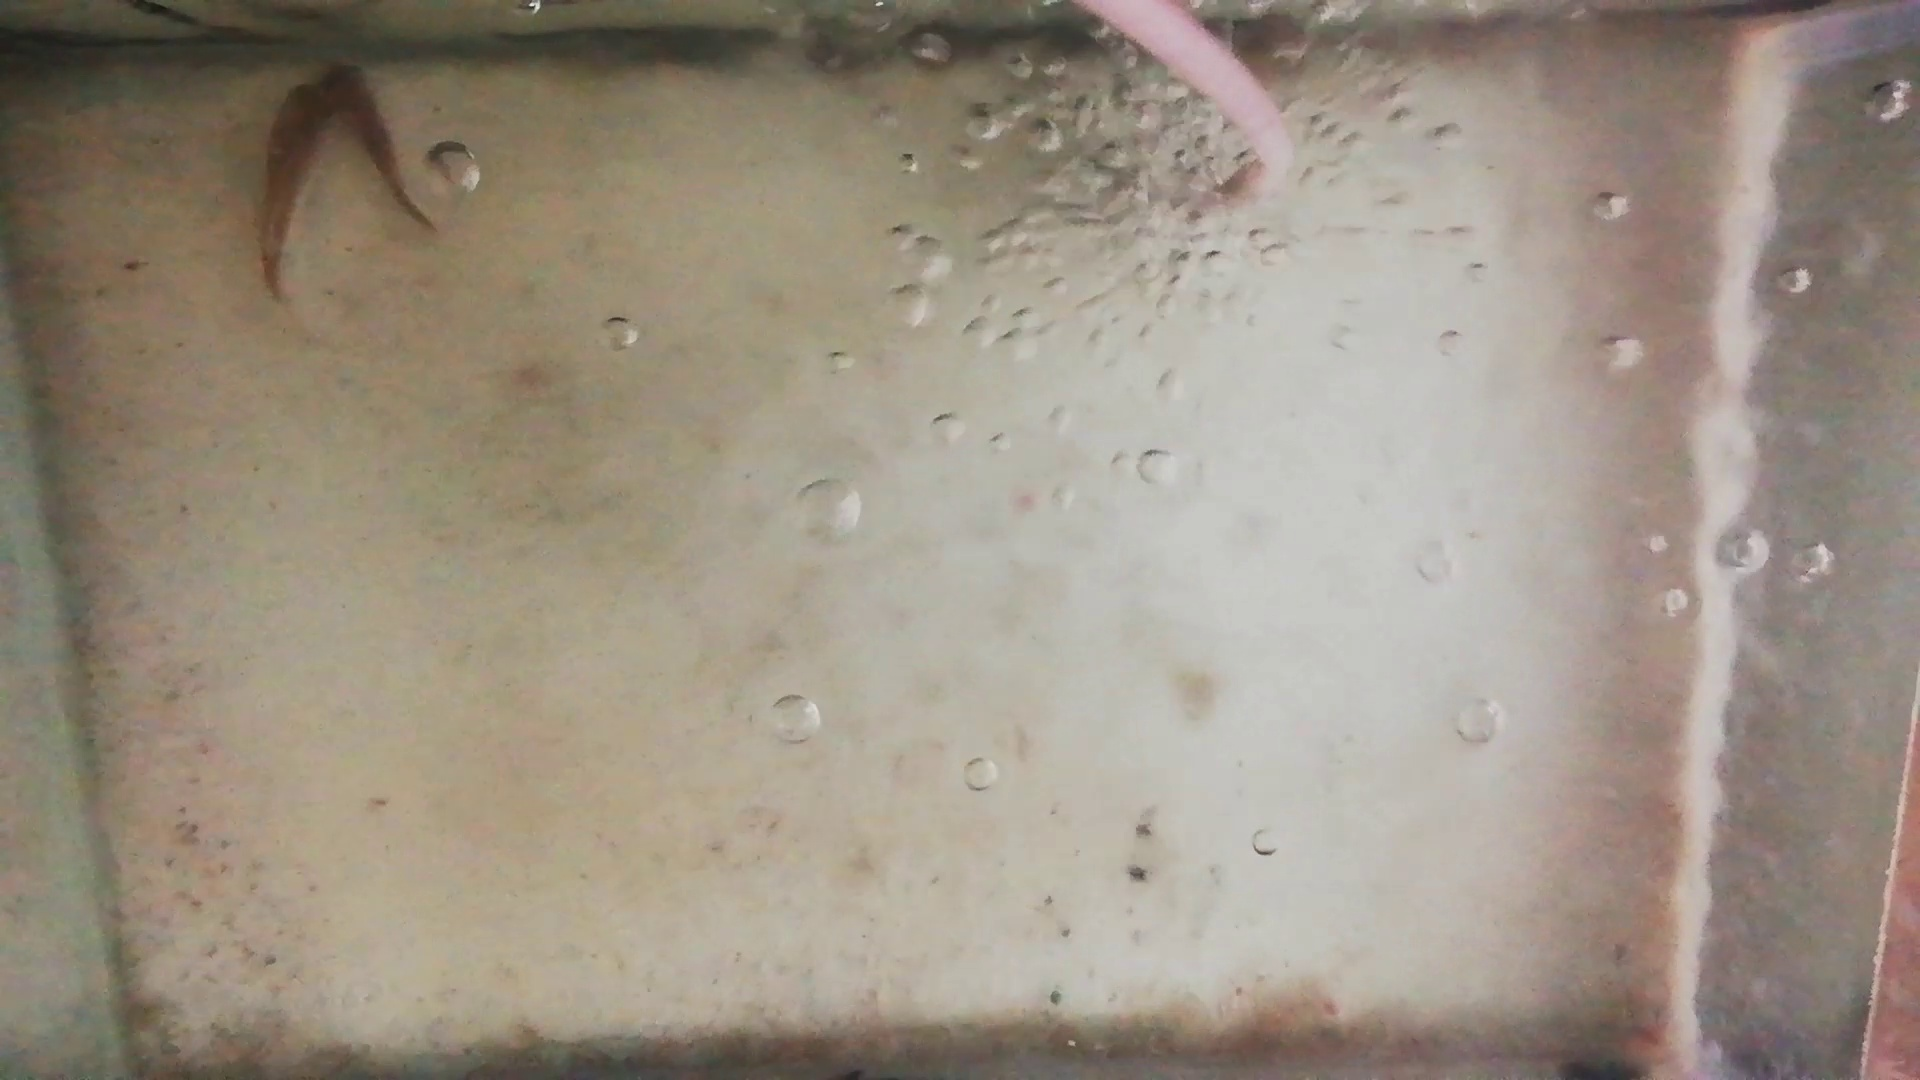fish: (319, 58, 436, 229), (256, 76, 331, 297)
